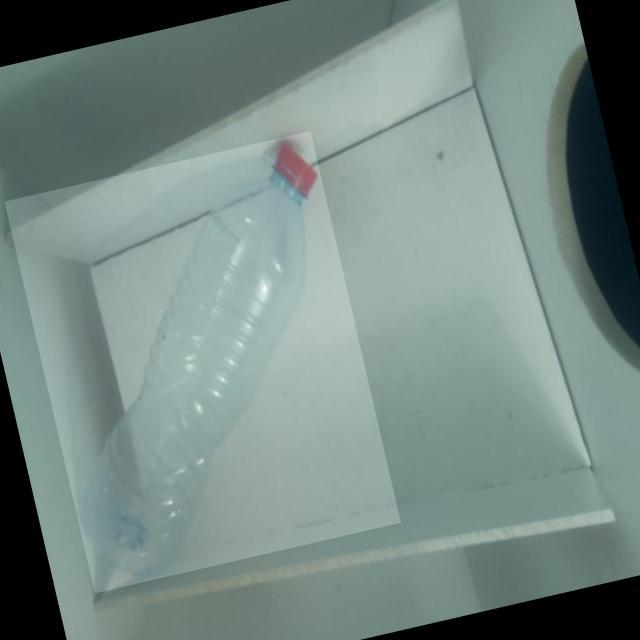good: (3, 130, 399, 592)
